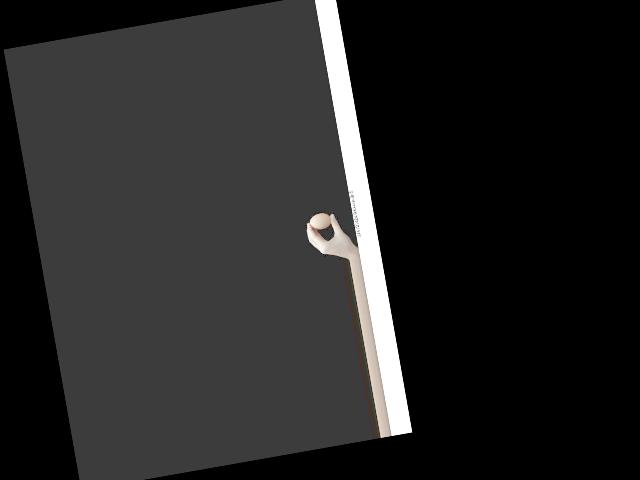egg: (308, 211, 332, 230)
